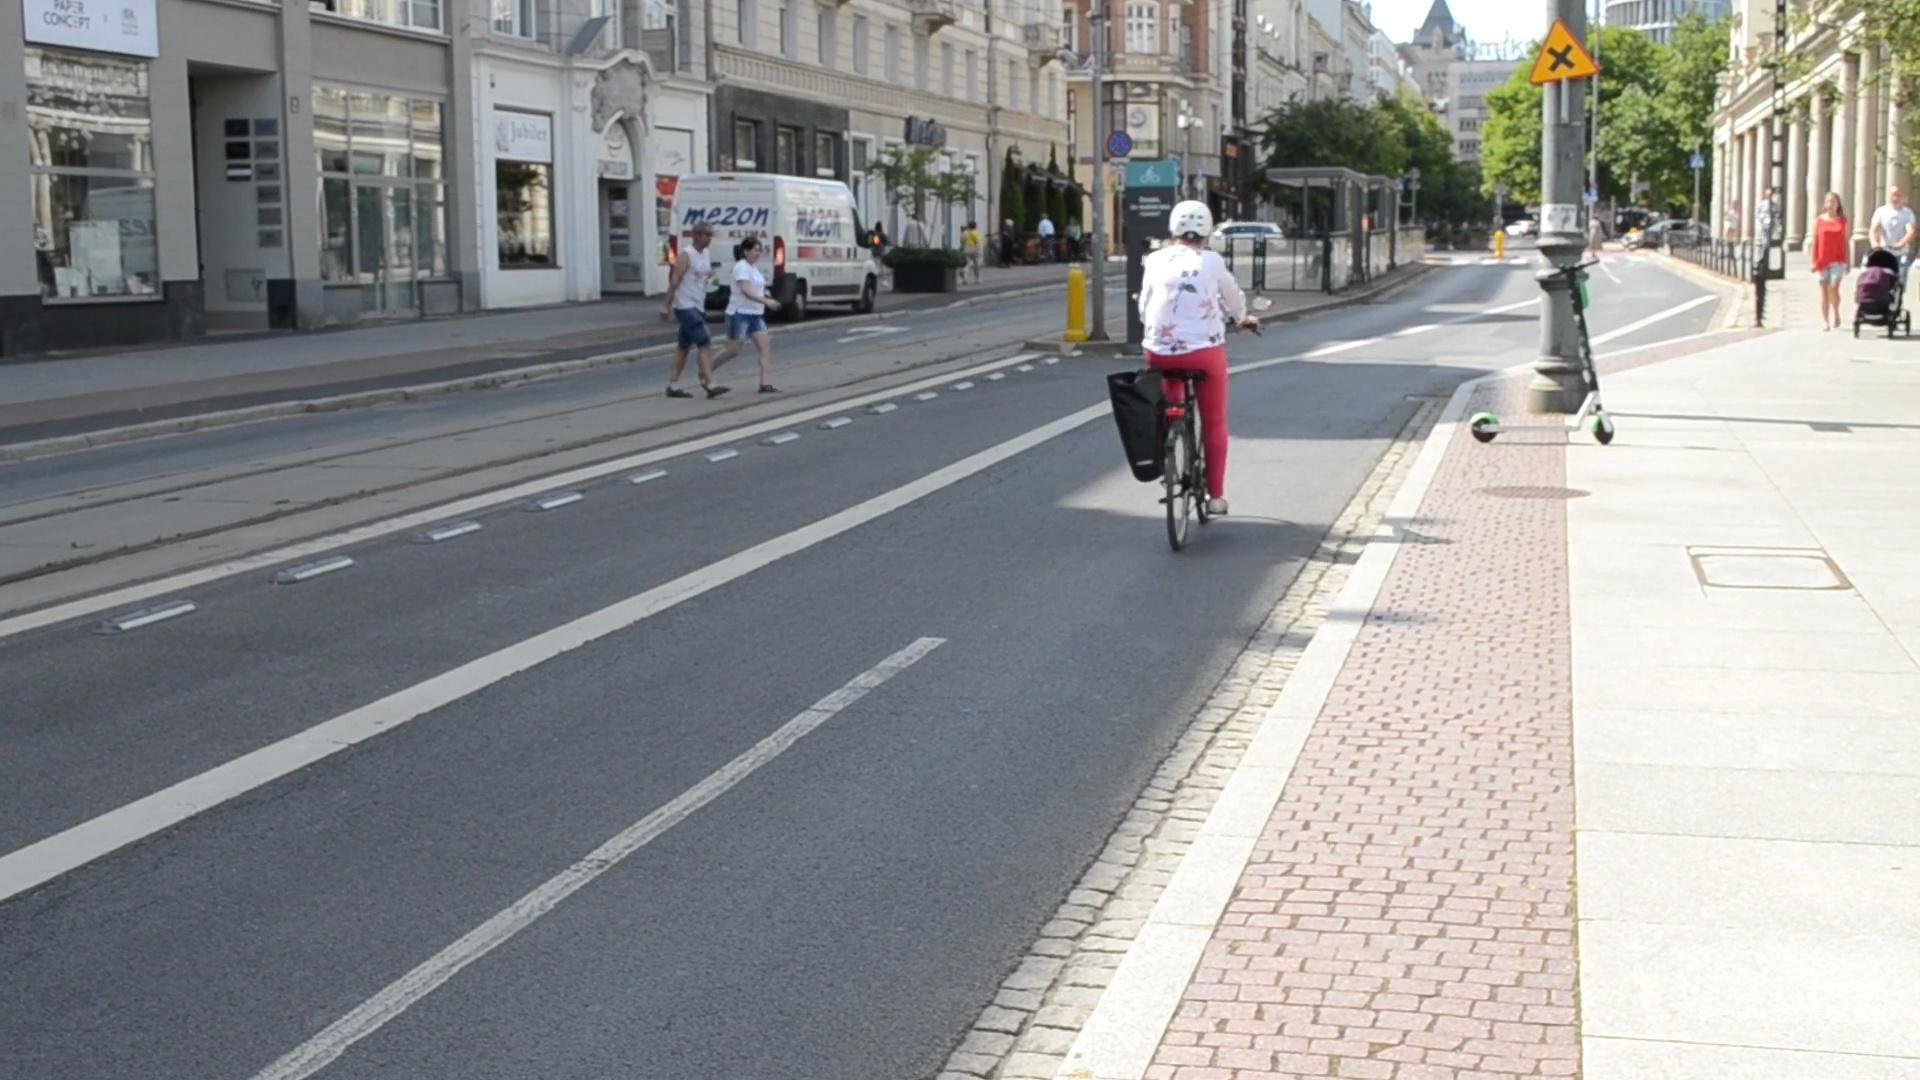cyclist: (1095, 188, 1257, 559)
